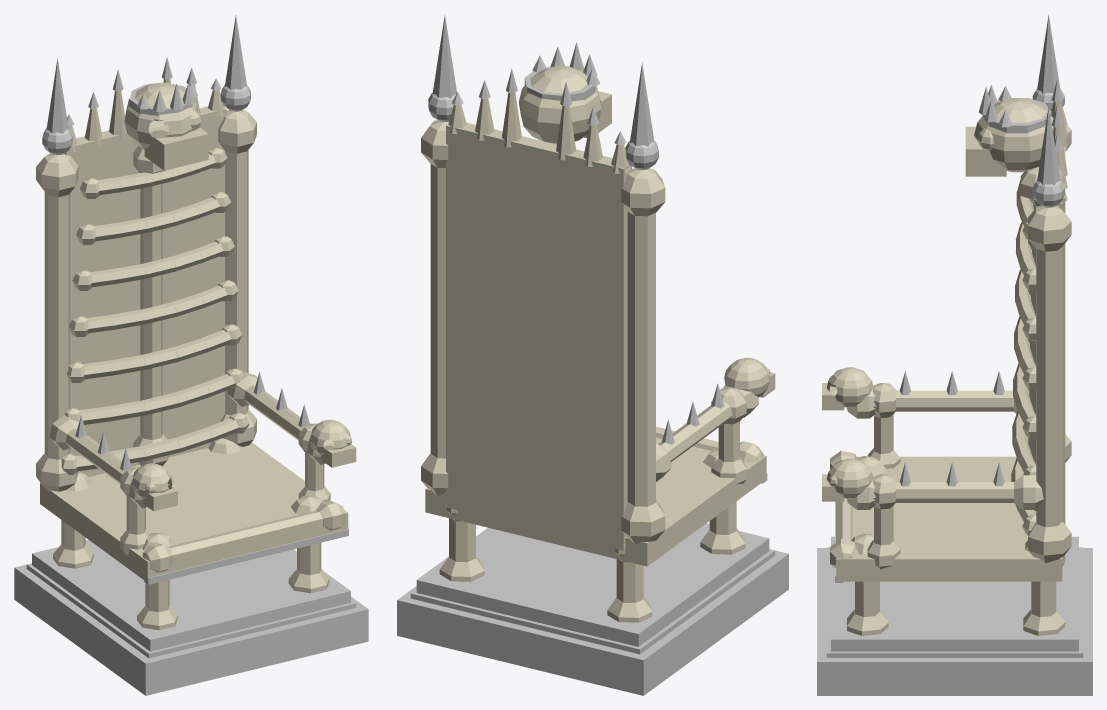
Rendered from aldrich_count_throne.obj.
3 renders of one model, left to right at view 1: azimuth 30°, elevation 25°; view 2: azimuth 150°, elevation 25°; view 3: azimuth 270°, elevation 25°, orthographic. The views are drawn at different scales.
Parts seen in each view (by area): view 1: aldrich_count_throne; view 2: aldrich_count_throne; view 3: aldrich_count_throne.
Boxes of the visible parts, x1=… form: aldrich_count_throne: x1=14, y1=15, x2=368, y2=695; aldrich_count_throne: x1=397, y1=15, x2=788, y2=695; aldrich_count_throne: x1=817, y1=14, x2=1092, y2=695.
Size of the model in its own units: 0.94 by 2.22 by 0.96.
